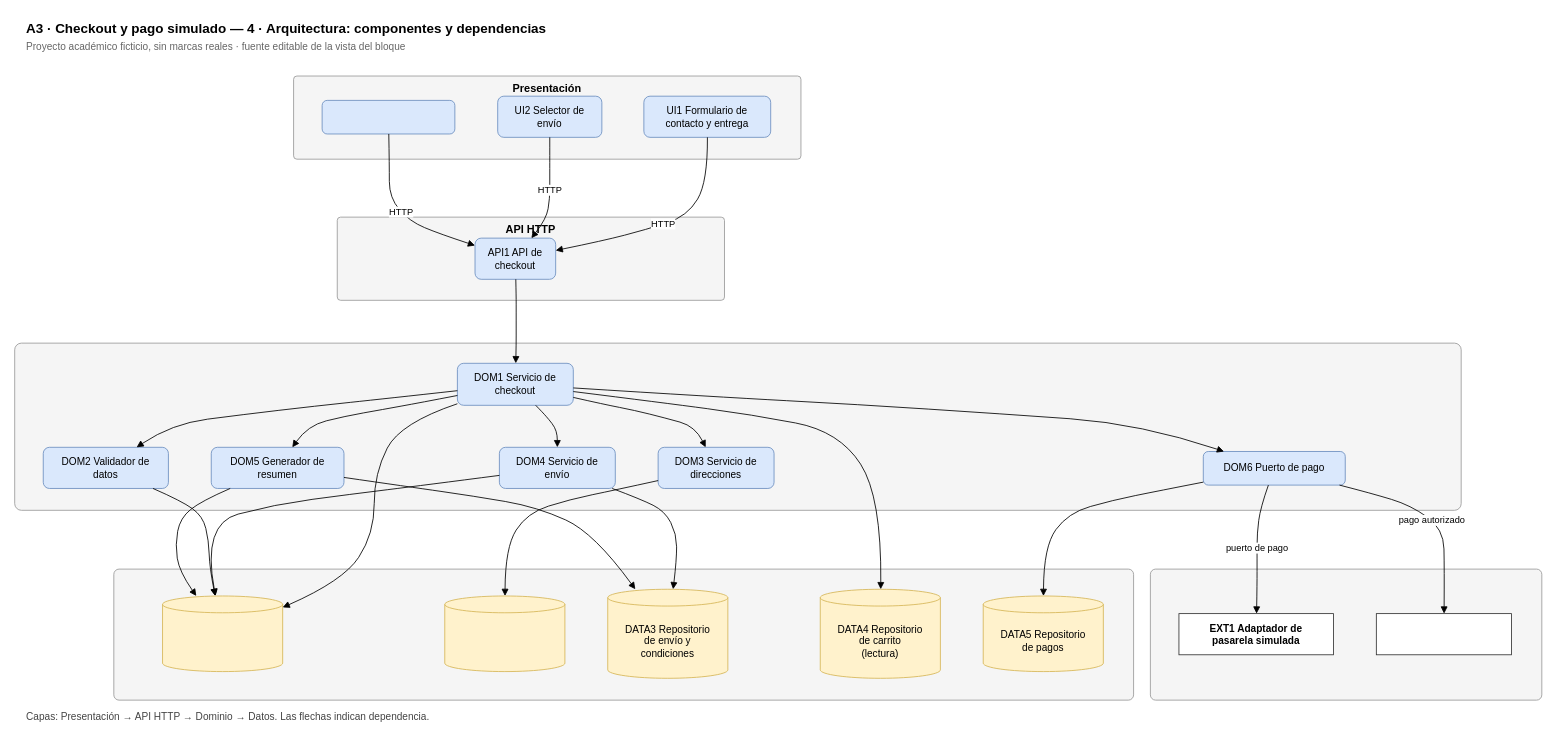
Image size: 1557x739. Some labels were removed from this diagram. The box of each missing label's shape, as (x1, y1, x2, y2) in pixels:
DATA1 Repositorio de checkout: (162, 595, 283, 672)
DATA2 Repositorio de direcciones: (444, 595, 565, 672)
Datos: (113, 568, 1134, 700)
Dominio: módulo Checkout: (14, 342, 1461, 510)
EXT2 Módulo de pedidos (A4): (1376, 613, 1512, 655)
Sistemas simulados y otros módulos: (1150, 568, 1542, 700)
UI3 Resumen y pago: (321, 100, 455, 134)
